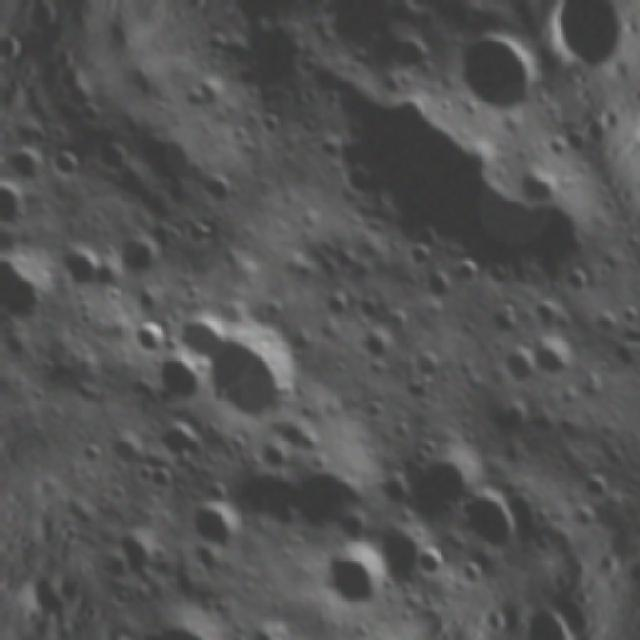crater: (188, 307, 326, 450), (204, 436, 328, 559), (438, 6, 553, 129), (280, 441, 388, 550), (389, 422, 502, 526), (215, 0, 328, 103), (432, 472, 537, 574), (302, 526, 396, 628), (0, 235, 69, 350), (122, 580, 252, 640), (120, 105, 206, 192), (177, 474, 255, 563), (358, 511, 439, 595), (40, 229, 120, 314), (100, 212, 178, 294), (519, 318, 595, 393), (162, 300, 238, 372), (145, 343, 217, 419), (468, 386, 541, 457), (104, 515, 171, 583), (147, 408, 210, 474), (265, 406, 330, 469), (487, 331, 548, 395), (374, 23, 435, 85), (473, 287, 535, 347), (510, 156, 568, 215), (98, 419, 156, 475), (176, 68, 236, 122), (0, 168, 43, 242), (203, 285, 259, 341), (123, 310, 179, 365), (522, 285, 576, 340), (352, 316, 405, 370), (413, 258, 464, 311), (89, 126, 138, 179), (4, 139, 54, 190), (194, 160, 243, 212), (42, 137, 92, 186), (572, 457, 620, 508), (312, 281, 361, 330), (337, 152, 383, 203), (552, 492, 600, 539), (136, 453, 182, 501), (408, 538, 452, 588), (603, 328, 640, 384), (396, 235, 442, 280), (250, 98, 292, 142), (559, 262, 603, 303), (585, 301, 627, 342), (408, 341, 450, 382), (69, 431, 111, 472), (310, 128, 352, 168), (557, 122, 594, 164), (242, 615, 300, 640), (448, 249, 484, 288), (539, 127, 575, 165), (384, 409, 419, 446), (108, 579, 140, 618), (612, 296, 640, 336), (445, 0, 498, 8)
